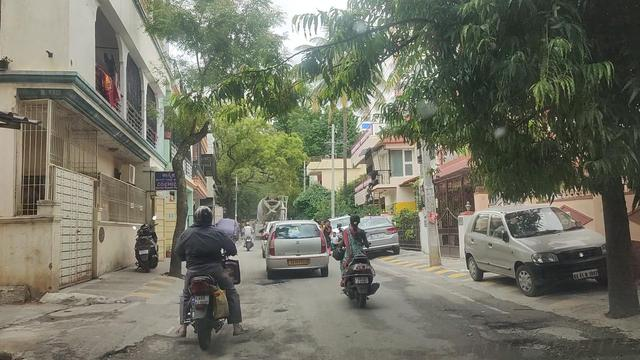LMV: (184, 213, 232, 340), (264, 219, 330, 277), (344, 215, 384, 307)
RoadDamages: (487, 305, 598, 352), (97, 333, 164, 360), (276, 300, 291, 313)
